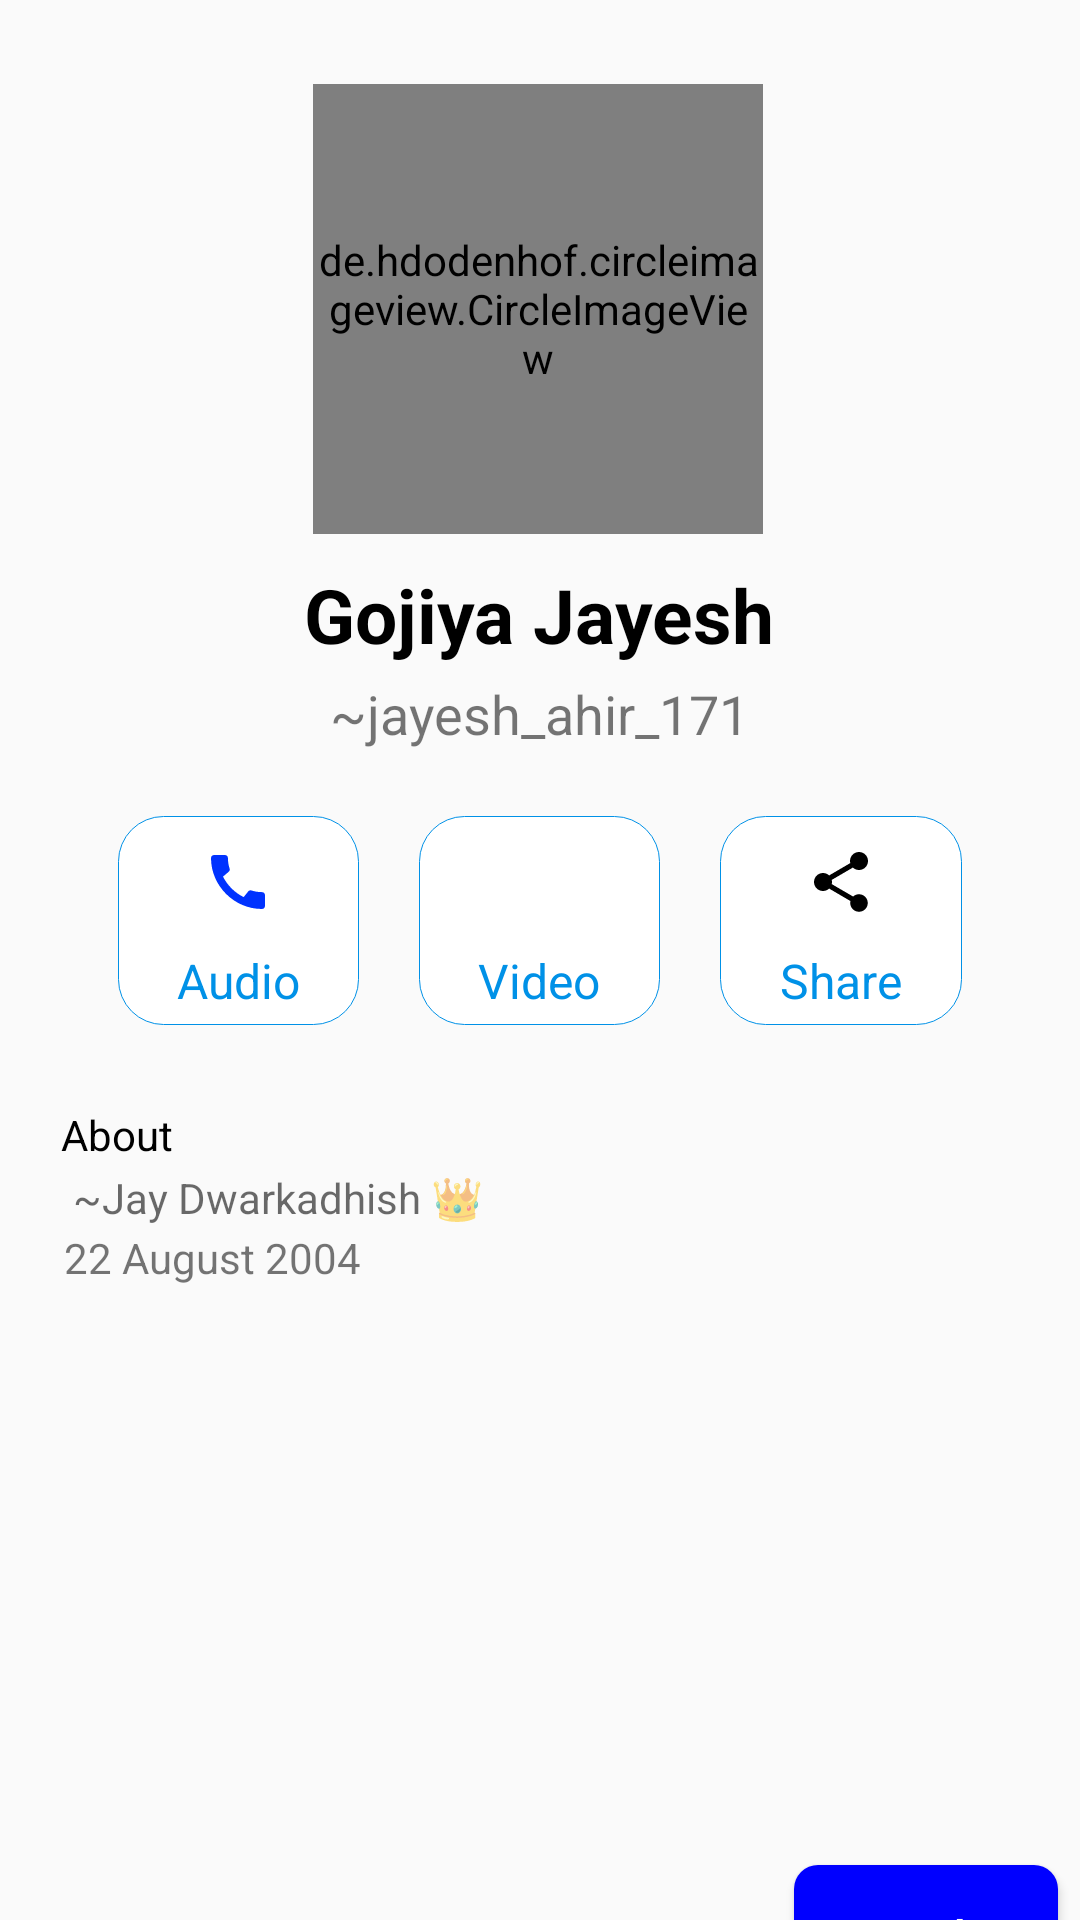

Point at icon controls on the screen. Image size 1080*1920, points as (x=x, y=y).
call: (x=238, y=882)
